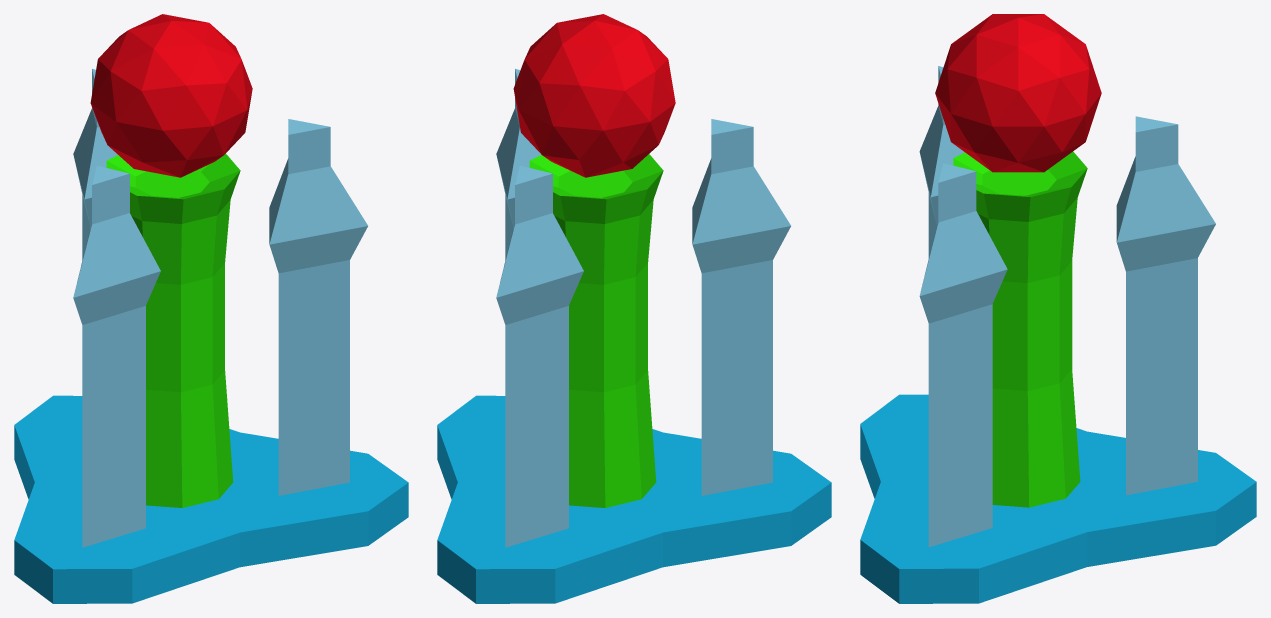
File: HTB5.fbx
3 renders of one model, left to right at view 1: azimuth 30°, elevation 25°; view 2: azimuth 150°, elevation 25°; view 3: azimuth 270°, elevation 25°, orthographic.
Parts seen in each view (by area): view 1: Cylinder; view 2: Cylinder; view 3: Cylinder.
Part boxes in pixels (bbox=[...]): Cylinder: bbox=[14, 14, 408, 603]; Cylinder: bbox=[437, 14, 831, 603]; Cylinder: bbox=[860, 14, 1256, 603].
Bounding box in the file's own units: 1197 × 1597 × 1149.
